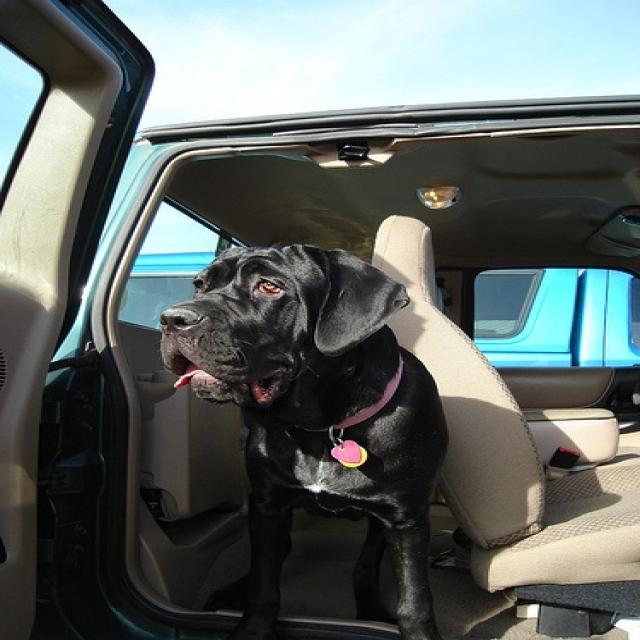dog: (158, 241, 438, 638)
